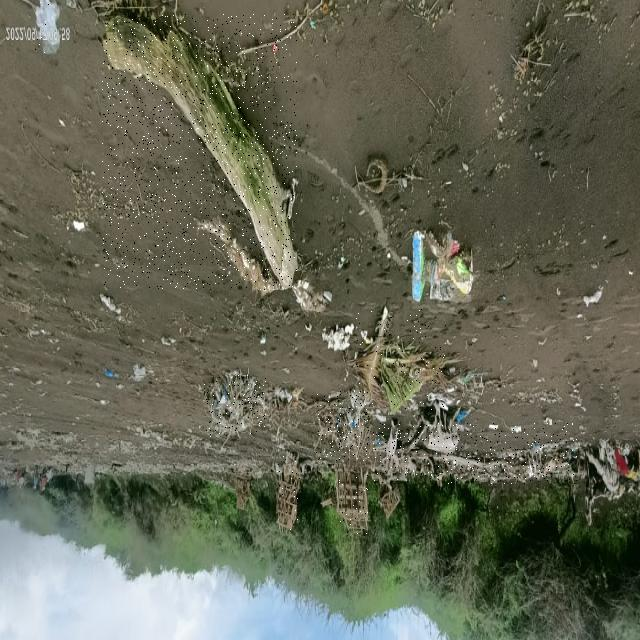biowaste: (102, 14, 297, 289), (372, 423, 578, 484), (356, 309, 447, 414), (204, 374, 266, 436), (317, 390, 369, 460), (335, 469, 369, 534), (277, 455, 300, 532)
plastic: (36, 0, 58, 54)
